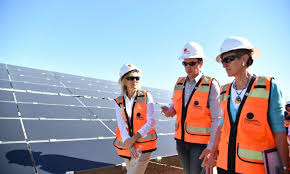Person_wearing_helmet: (214, 32, 255, 59), (175, 37, 207, 64), (114, 61, 143, 83)
